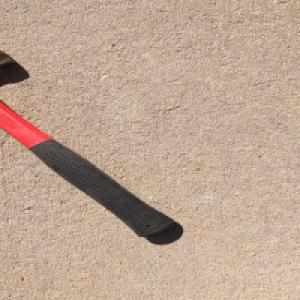Hammer: (0, 45, 182, 238)
